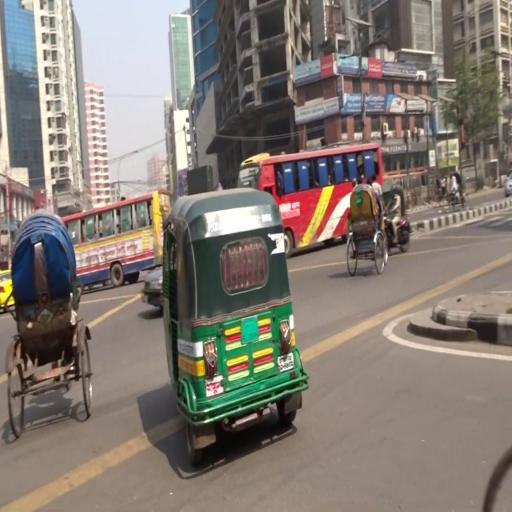bus: (237, 142, 388, 254), (58, 188, 174, 288)
motorbike: (384, 185, 413, 256)
rickshaw: (7, 211, 97, 438), (347, 174, 392, 281), (445, 168, 469, 211), (435, 174, 449, 209)
taxi: (2, 268, 16, 309)
three wheelers (CNG): (161, 186, 312, 468)
